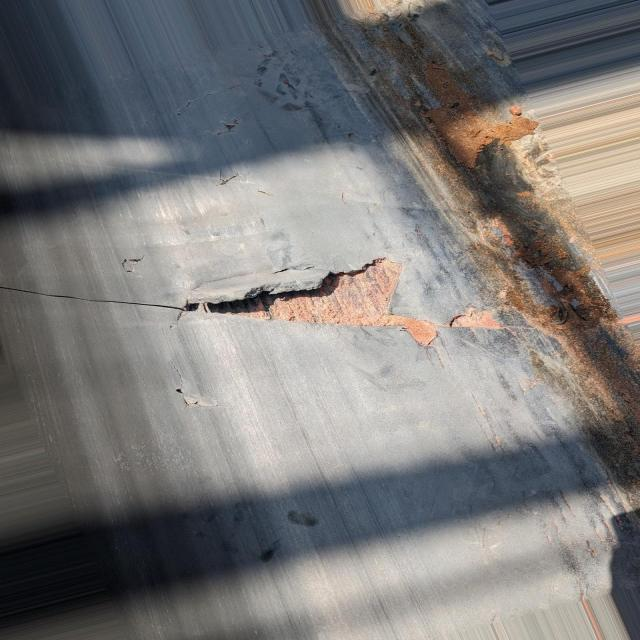Tear: (0, 248, 538, 358), (175, 76, 251, 119), (159, 359, 224, 408), (209, 106, 259, 141), (117, 252, 154, 277), (208, 168, 246, 188)
